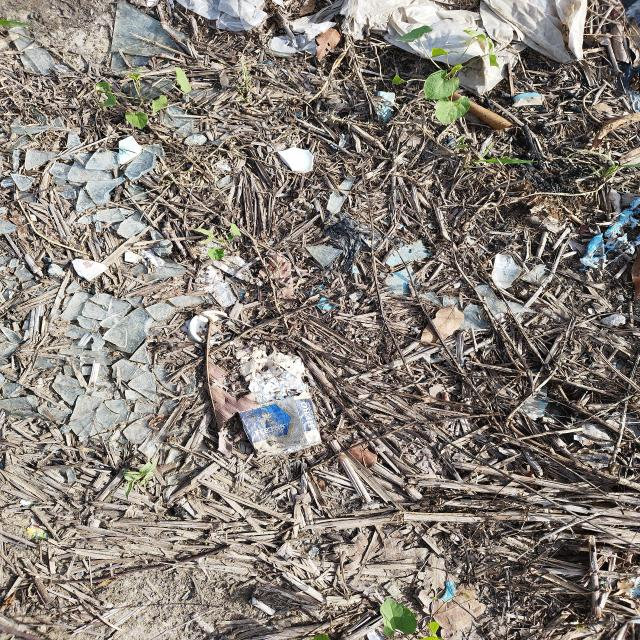cardboard box: (238, 398, 320, 454)
